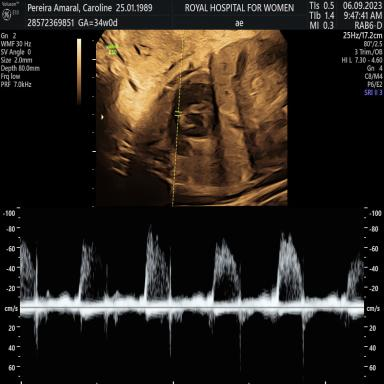Ultrasound-Waves: (29, 216, 362, 384)
